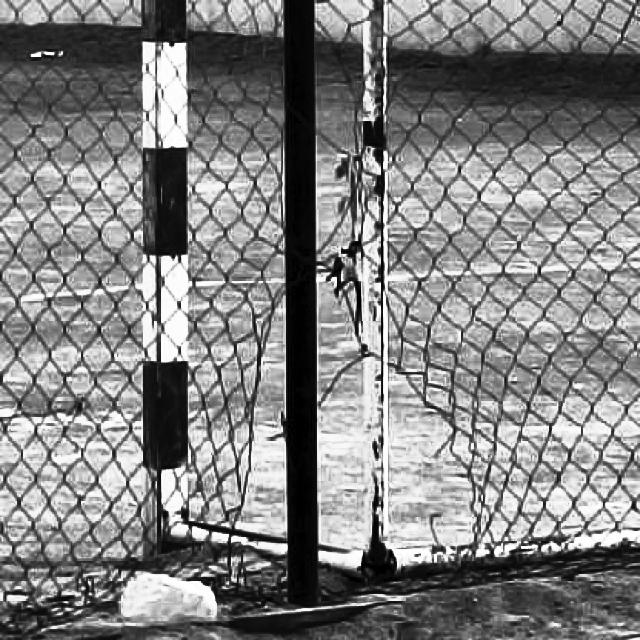anomaly-fence: (205, 211, 477, 604)
